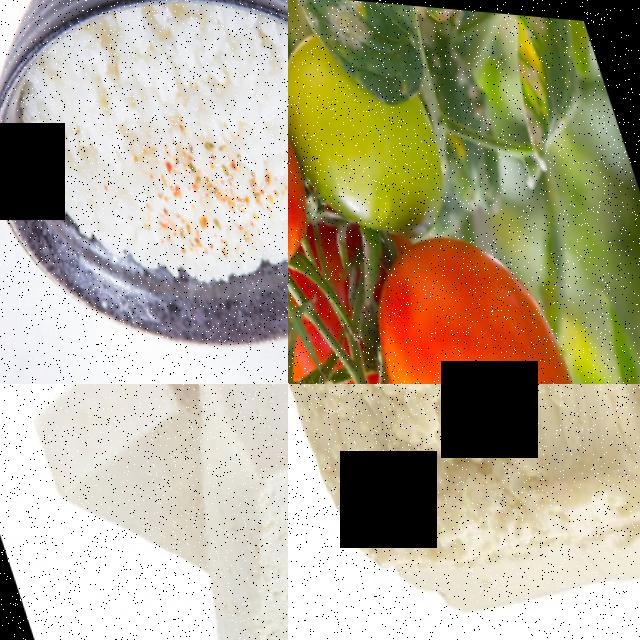tofu: (288, 384, 640, 640), (96, 384, 288, 640)
tomato: (333, 198, 607, 384)
white rice: (0, 0, 288, 186)
